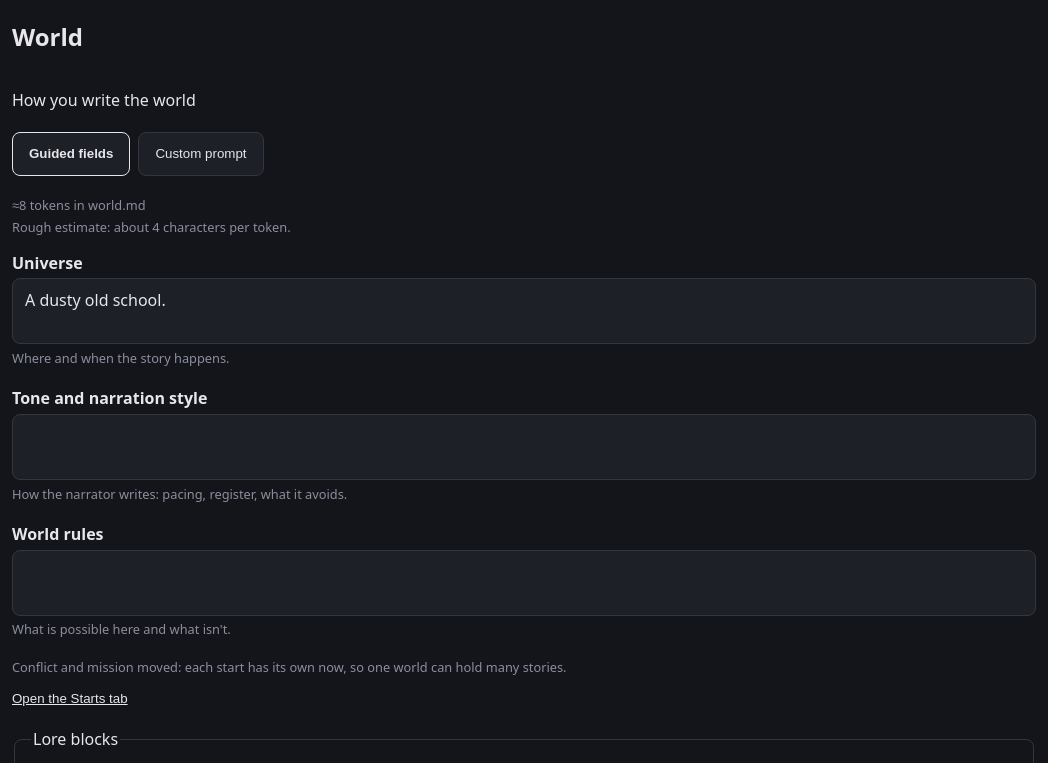
Test: WorldTab › switching from guided to custom shows the notice and keeps the text
The width and height of the screenshot is (1048, 763).
Click the radio button labelled "Custom prompt" at [201, 154], box [138,132,264,176]
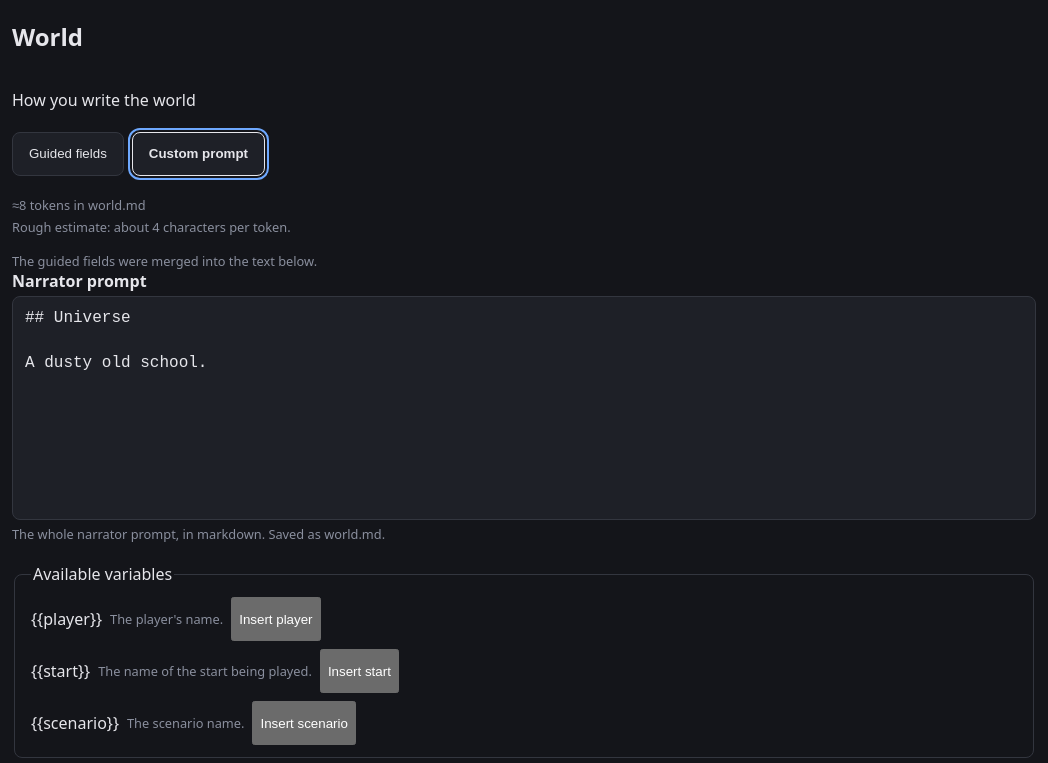
Expected: the text "The guided fields were merged into the text below." is shown, [12,252,317,270]
